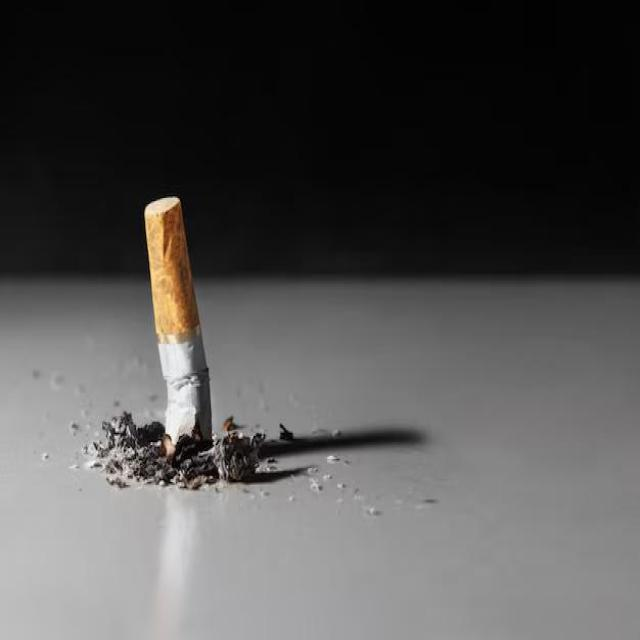cigarette: (144, 197, 214, 457)
